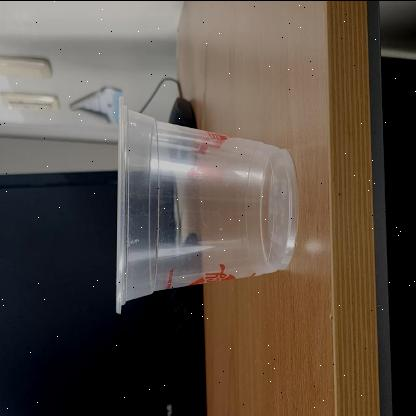Others: (114, 92, 298, 314)
